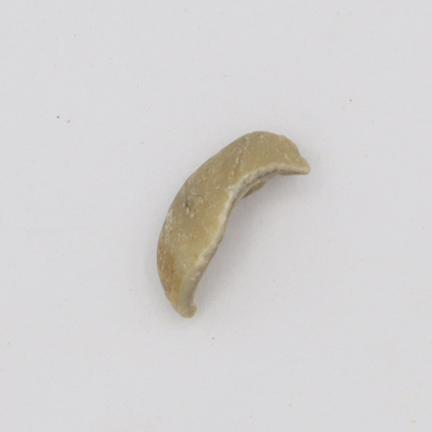shell: (157, 131, 309, 317)
